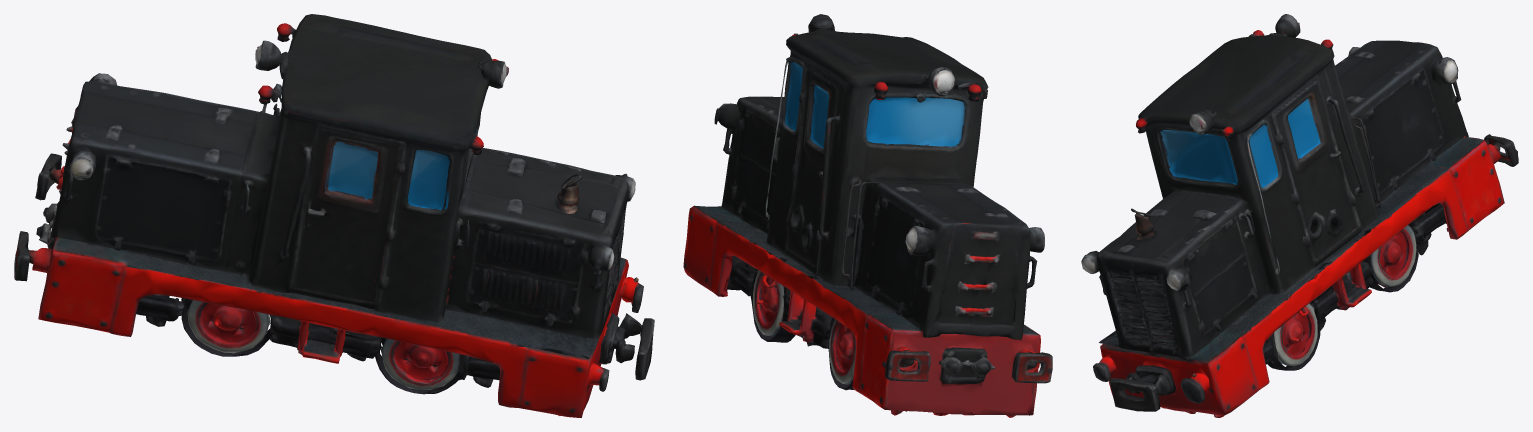
The picture shows the model from 3 angles, left to right: view 1: azimuth 30°, elevation 25°; view 2: azimuth 150°, elevation 25°; view 3: azimuth 270°, elevation 25°; orthographic projection. The views are drawn at different scales.
Bounding box in the file's own units: 0.9208 × 0.6195 × 0.8152.
1 material, 1 textured.
